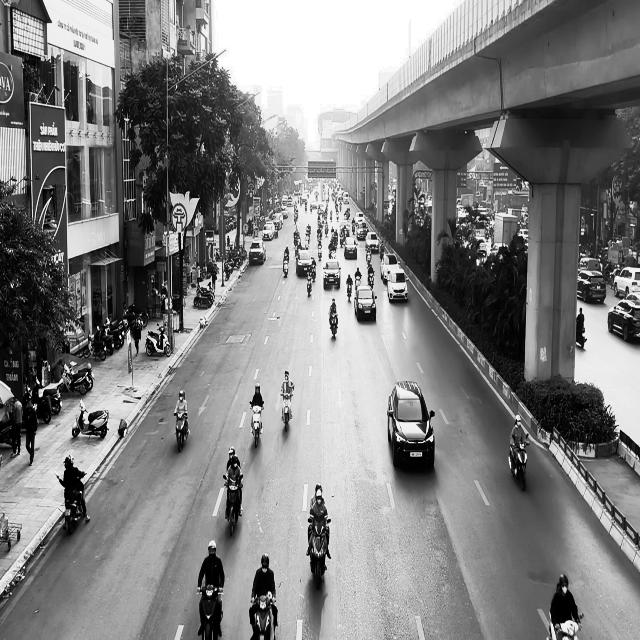car: (387, 380, 435, 468), (354, 285, 377, 321), (387, 268, 408, 302), (323, 260, 341, 289), (248, 238, 266, 265)
motorbike: (57, 475, 86, 535), (307, 516, 330, 589), (72, 399, 109, 439), (197, 585, 223, 639), (250, 592, 277, 639), (223, 474, 243, 536), (508, 438, 529, 491), (548, 611, 584, 639), (145, 322, 171, 357), (173, 411, 190, 452), (249, 402, 264, 447), (280, 388, 294, 432), (328, 312, 338, 337), (306, 273, 312, 296), (283, 255, 289, 277)
